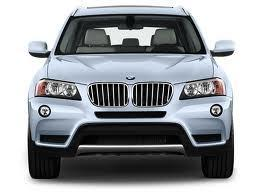Car: (19, 4, 245, 190)
